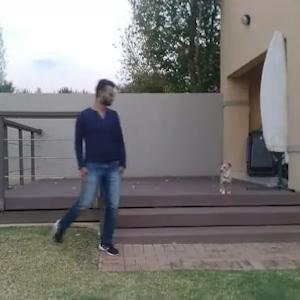follow: (72, 79, 122, 238)
